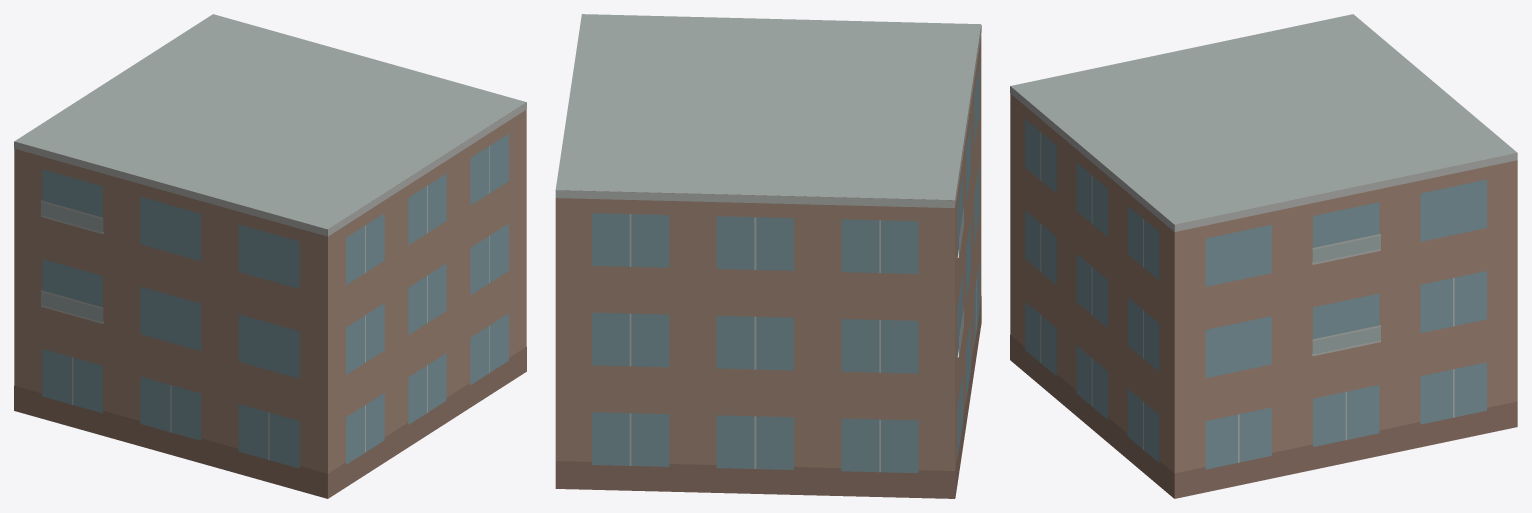
The model's file is survey-upis-32708174.glb.
3 views of the same model, side by side, from view 1: azimuth 30°, elevation 25°; view 2: azimuth 150°, elevation 25°; view 3: azimuth 270°, elevation 25° (orthographic). The views are drawn at different scales.
Visible parts, largest first — view 1: survey-upis-32708174.tmp; view 2: survey-upis-32708174.tmp; view 3: survey-upis-32708174.tmp.
Boxes of the visible parts, x1,y1,x2,y2 form: survey-upis-32708174.tmp: [14, 14, 526, 498]; survey-upis-32708174.tmp: [555, 14, 981, 498]; survey-upis-32708174.tmp: [1010, 14, 1517, 498].
Size of the model in its own units: 15.1 by 9.15 by 15.36.
